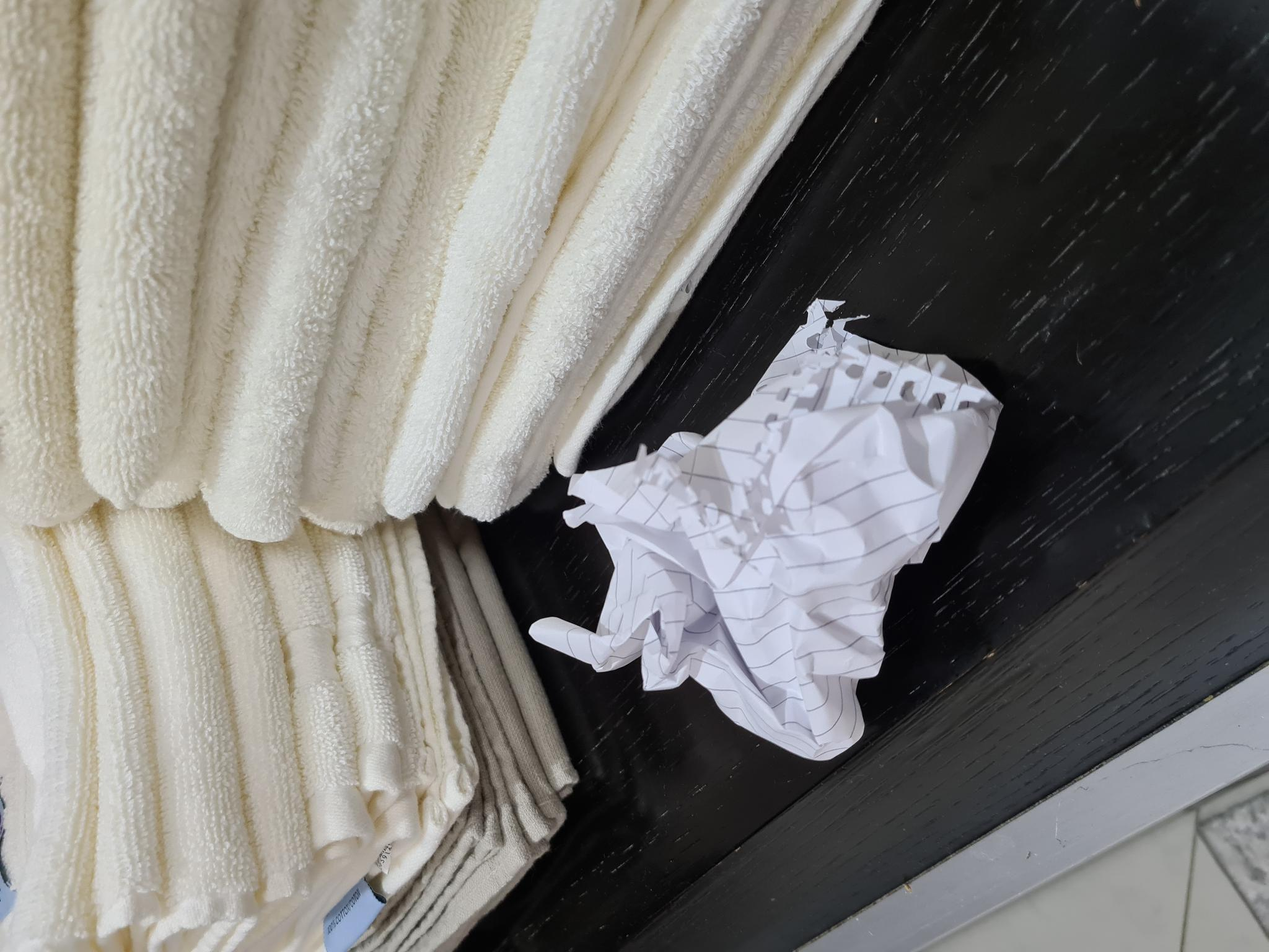Kertas: (192, 530, 636, 952)
